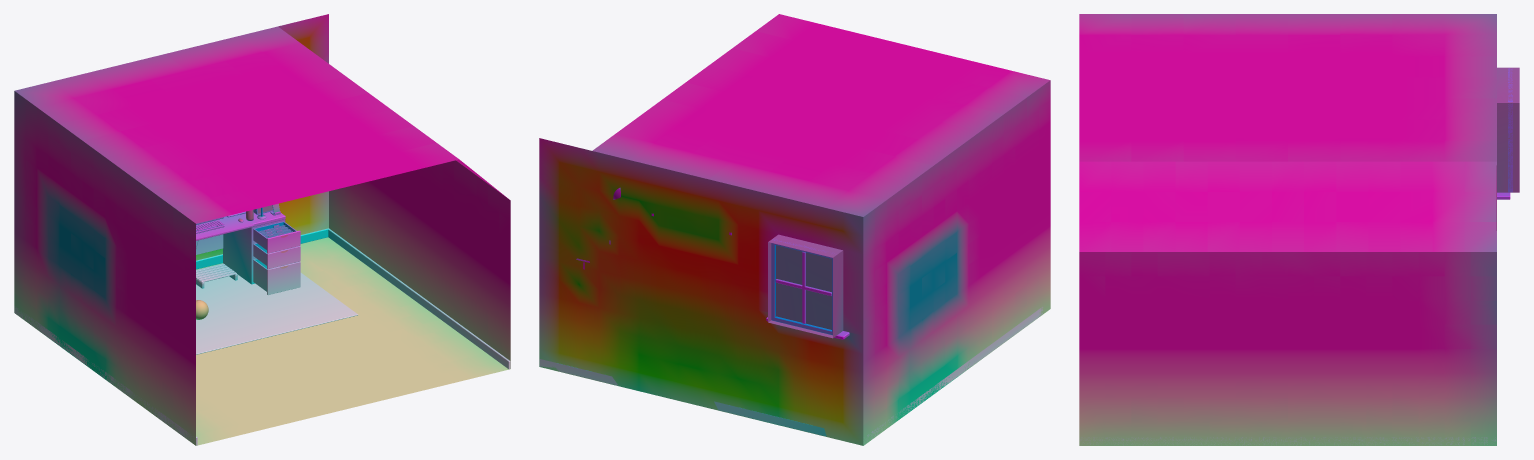
The model's file is room.glb.
3 views of the same model, side by side, from view 1: azimuth 30°, elevation 25°; view 2: azimuth 150°, elevation 25°; view 3: azimuth 270°, elevation 25° (orthographic). The views are drawn at different scales.
Parts seen in each view (by area): view 1: Room, Desk, Drawer_R0, Drawer, Drawer_R1, Under; view 2: Room, Window; view 3: Room, Window.
Part boxes in pixels (x1,y1,x2,y2): Room: [14, 14, 510, 445]; Desk: [196, 211, 285, 284]; Drawer_R0: [253, 259, 300, 294]; Drawer: [253, 221, 300, 253]; Drawer_R1: [253, 243, 300, 269]; Under: [196, 240, 237, 288]; Room: [539, 14, 1050, 445]; Window: [766, 239, 849, 339]; Room: [1079, 14, 1519, 445]; Window: [1497, 68, 1512, 199].
Bounding box in the file's own units: 4 × 2.7 × 4.22.
